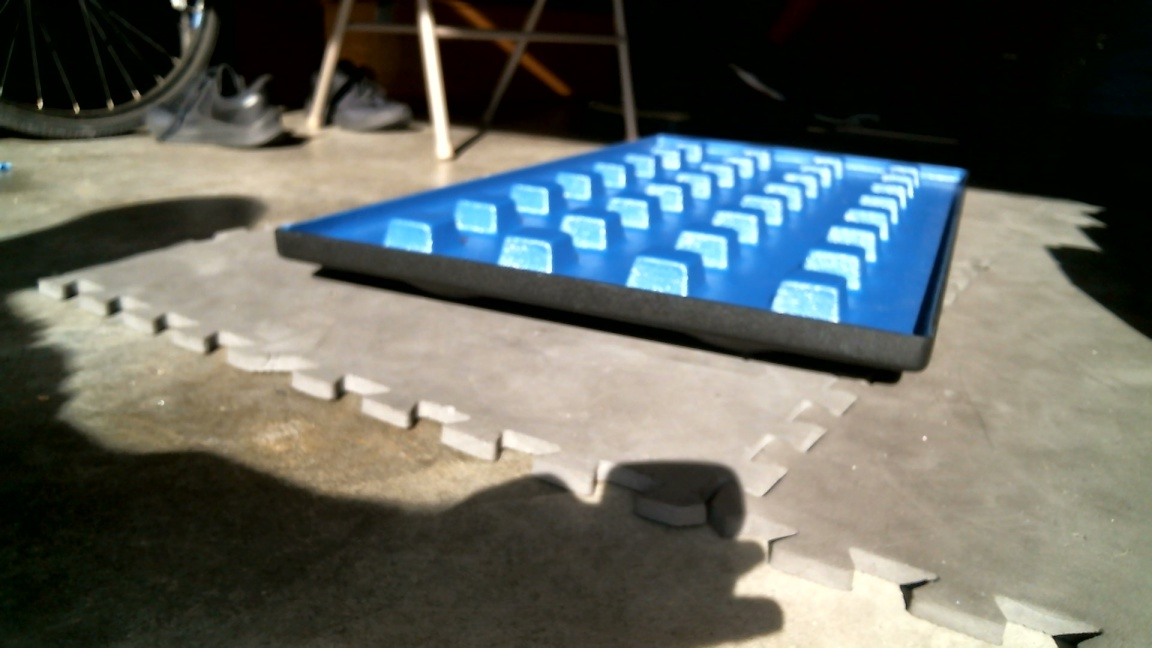blue_foundation: (266, 134, 977, 388)
